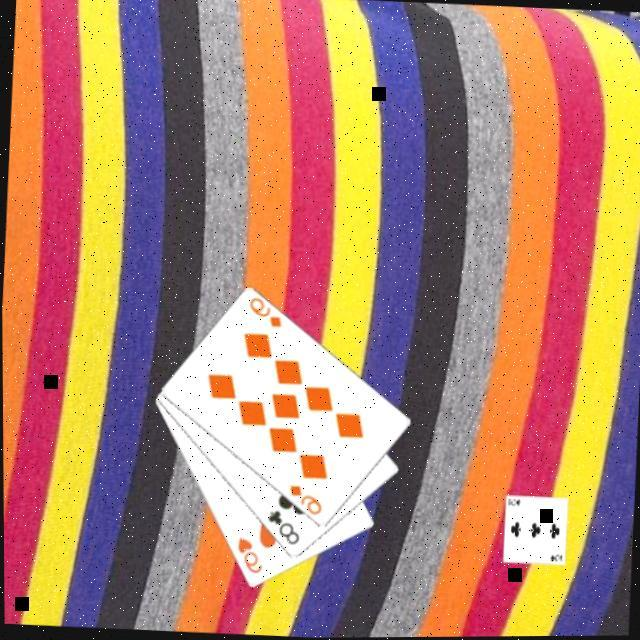6H: (234, 534, 267, 578)
8C: (264, 508, 304, 550)
9D: (286, 482, 326, 520), (247, 296, 287, 332)
